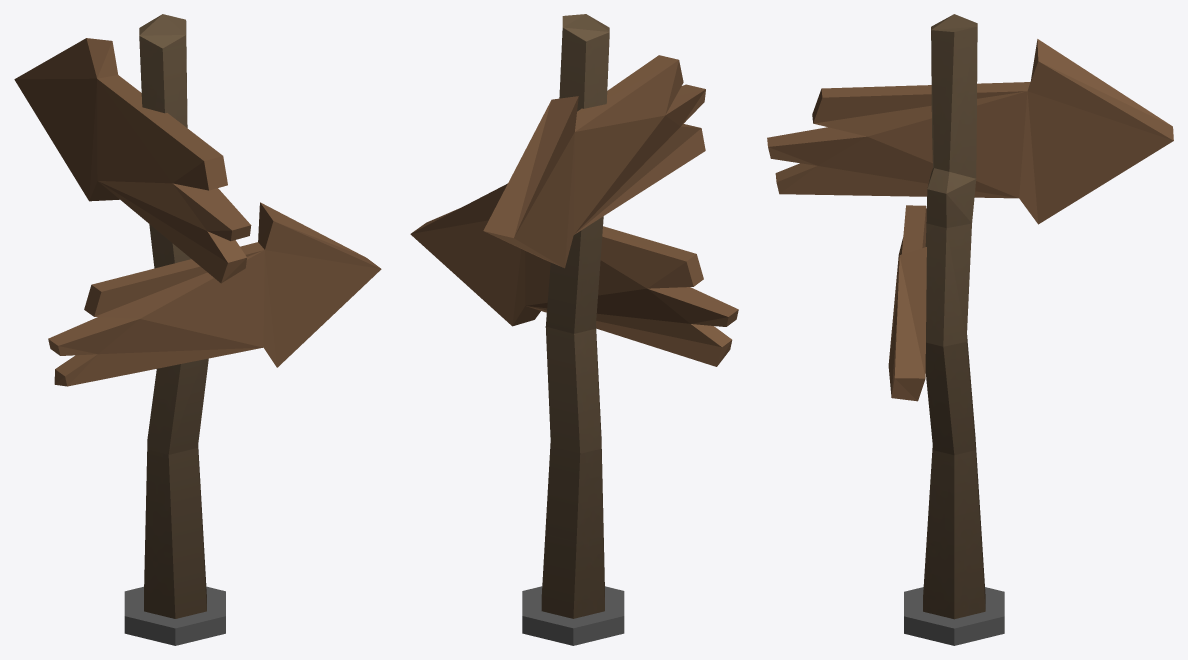
The model's file is ZLP_Build_F_10.FBX.
The picture shows the model from 3 angles, left to right: view 1: azimuth 30°, elevation 25°; view 2: azimuth 150°, elevation 25°; view 3: azimuth 270°, elevation 25°; orthographic projection.
Parts seen in each view (by area): view 1: ZLP_Build_F_10; view 2: ZLP_Build_F_10; view 3: ZLP_Build_F_10.
Part boxes in pixels (left/top/right/bottom): ZLP_Build_F_10: left=14, top=14, right=381, bottom=645; ZLP_Build_F_10: left=410, top=14, right=738, bottom=645; ZLP_Build_F_10: left=767, top=14, right=1173, bottom=645.
Bounding box in the file's own units: 99.65 × 180 × 111.
